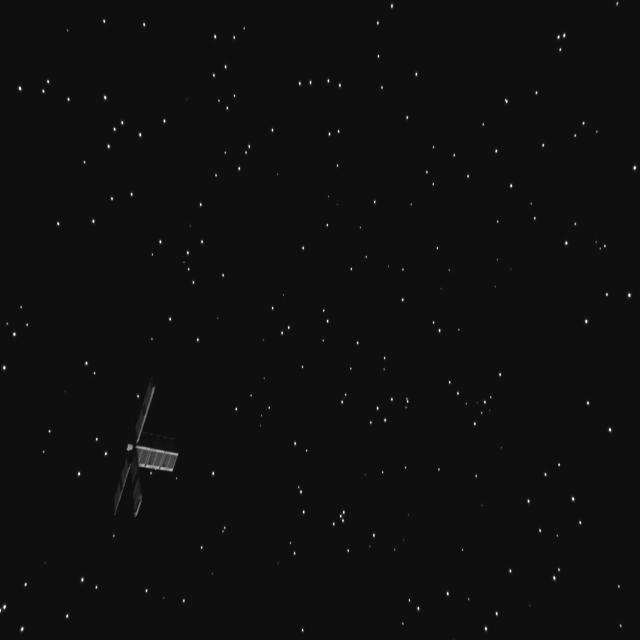medium_debris: (99, 378, 179, 528)
